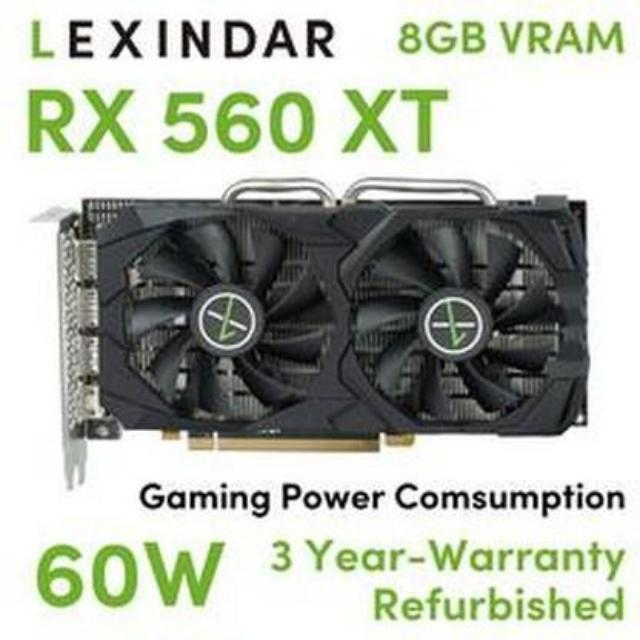GPU: (57, 169, 594, 471)
